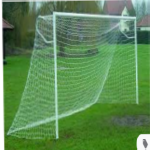goals: (7, 9, 142, 140)
